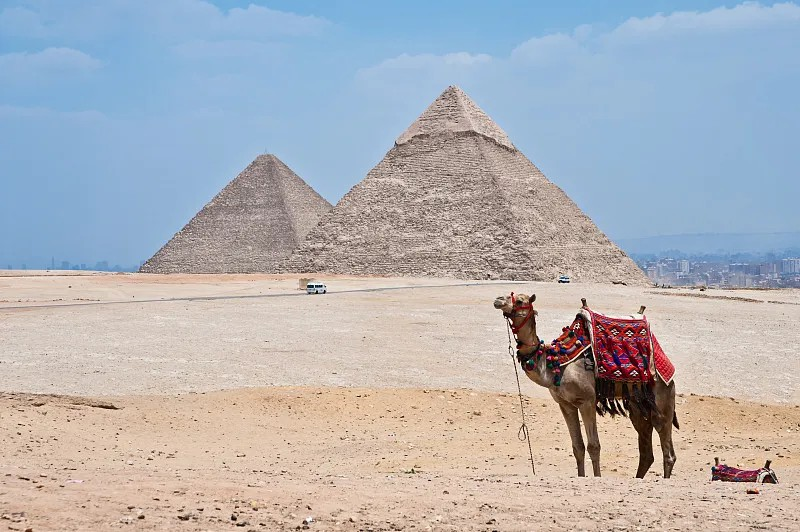Pyramid: (271, 85, 657, 287), (138, 151, 336, 273)
